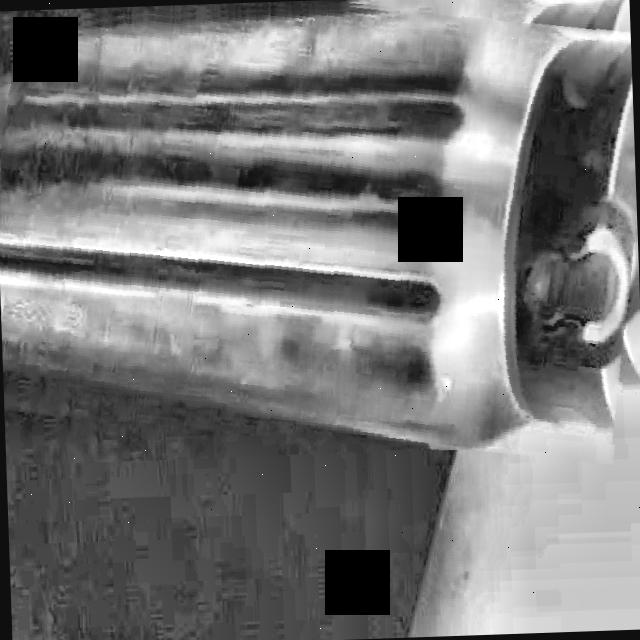bottle: (0, 5, 636, 450)
